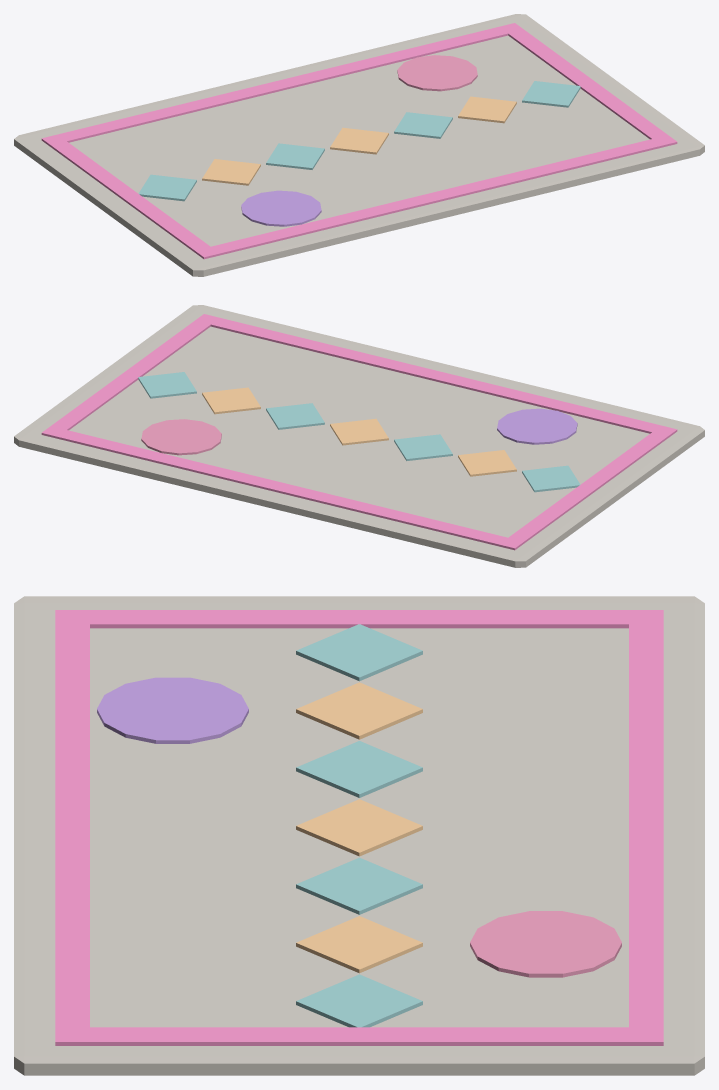
Rendered from deco_tappeto_01.glb.
The picture shows the model from 3 angles, top to bottom: view 1: azimuth 30°, elevation 25°; view 2: azimuth 150°, elevation 25°; view 3: azimuth 270°, elevation 25°; orthographic projection. The views are drawn at different scales.
Parts seen in each view (by area): view 1: deco_tappeto_01; view 2: deco_tappeto_01; view 3: deco_tappeto_01.
Boxes of the visible parts, x1,y1,x2,y2 form: deco_tappeto_01: (14,14,704,276); deco_tappeto_01: (14,305,704,567); deco_tappeto_01: (14,596,704,1075).
Size of the model in its own units: 1.6 by 0.0265 by 1.
